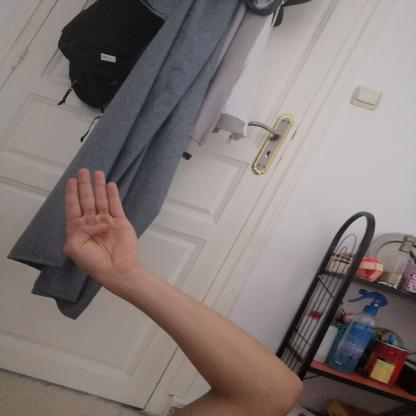KAAF: (49, 157, 147, 292)
